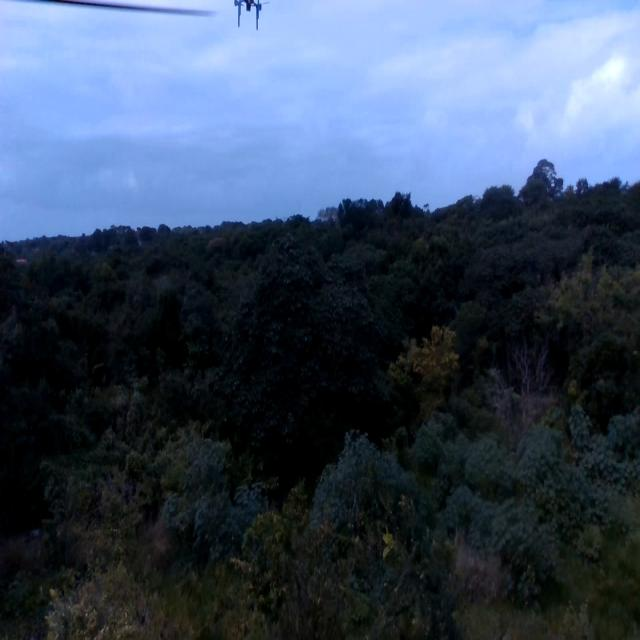-uav-: (229, 0, 268, 39)
